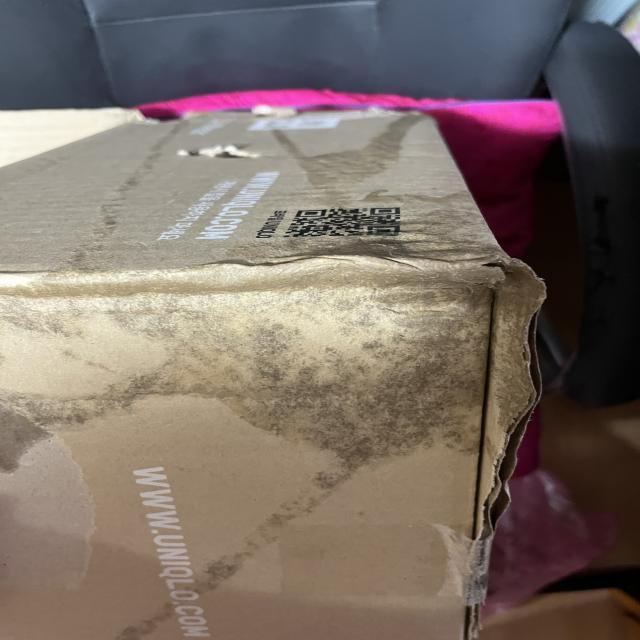wet: (228, 273, 530, 451)
